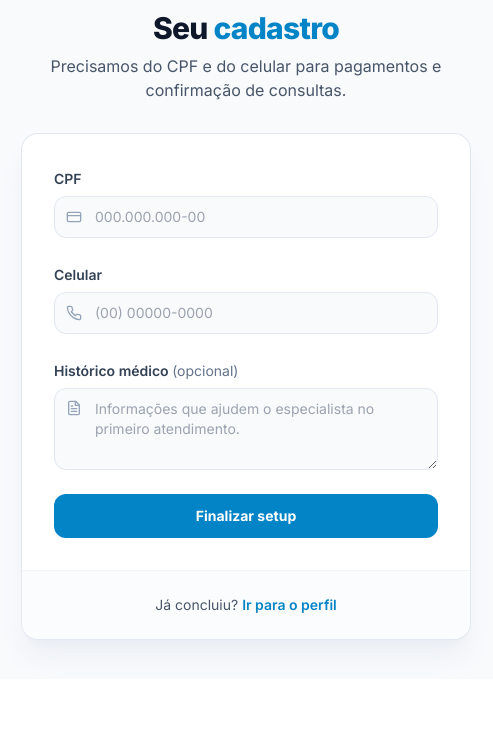
Test: PatientSetupPage › bloqueia submit com CPF inválido
The width and height of the screenshot is (493, 734).
Type "111" into the field labelled "CPF" at (246, 217), box [54,196,438,238]
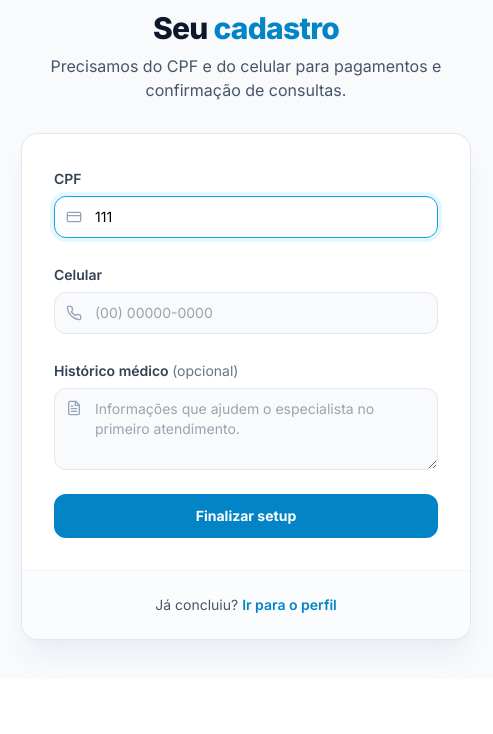
Type "11999999999" into the field labelled "Celular" at (246, 313), box [54,292,438,334]
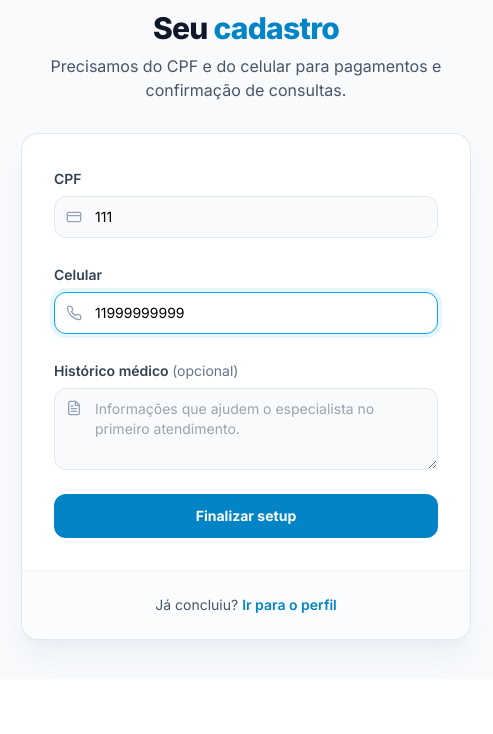
Click the button "Finalizar setup" at (246, 516), box [54,494,438,538]
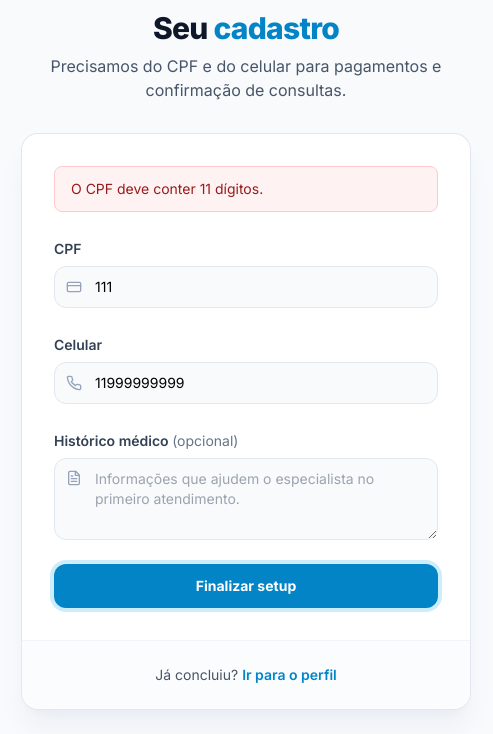
Check: the message "O CPF deve conter 11 dígitos." is shown, box [54,166,438,212]
